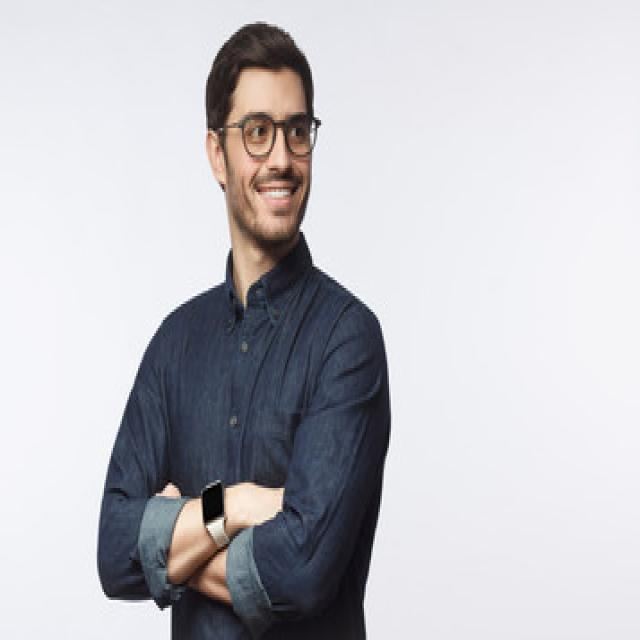person-without-mask: (88, 14, 436, 640)
